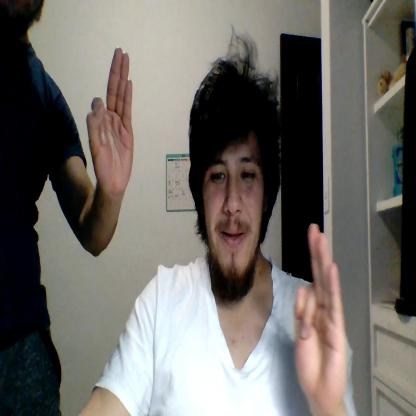F: (294, 224, 346, 406), (86, 45, 134, 193)
